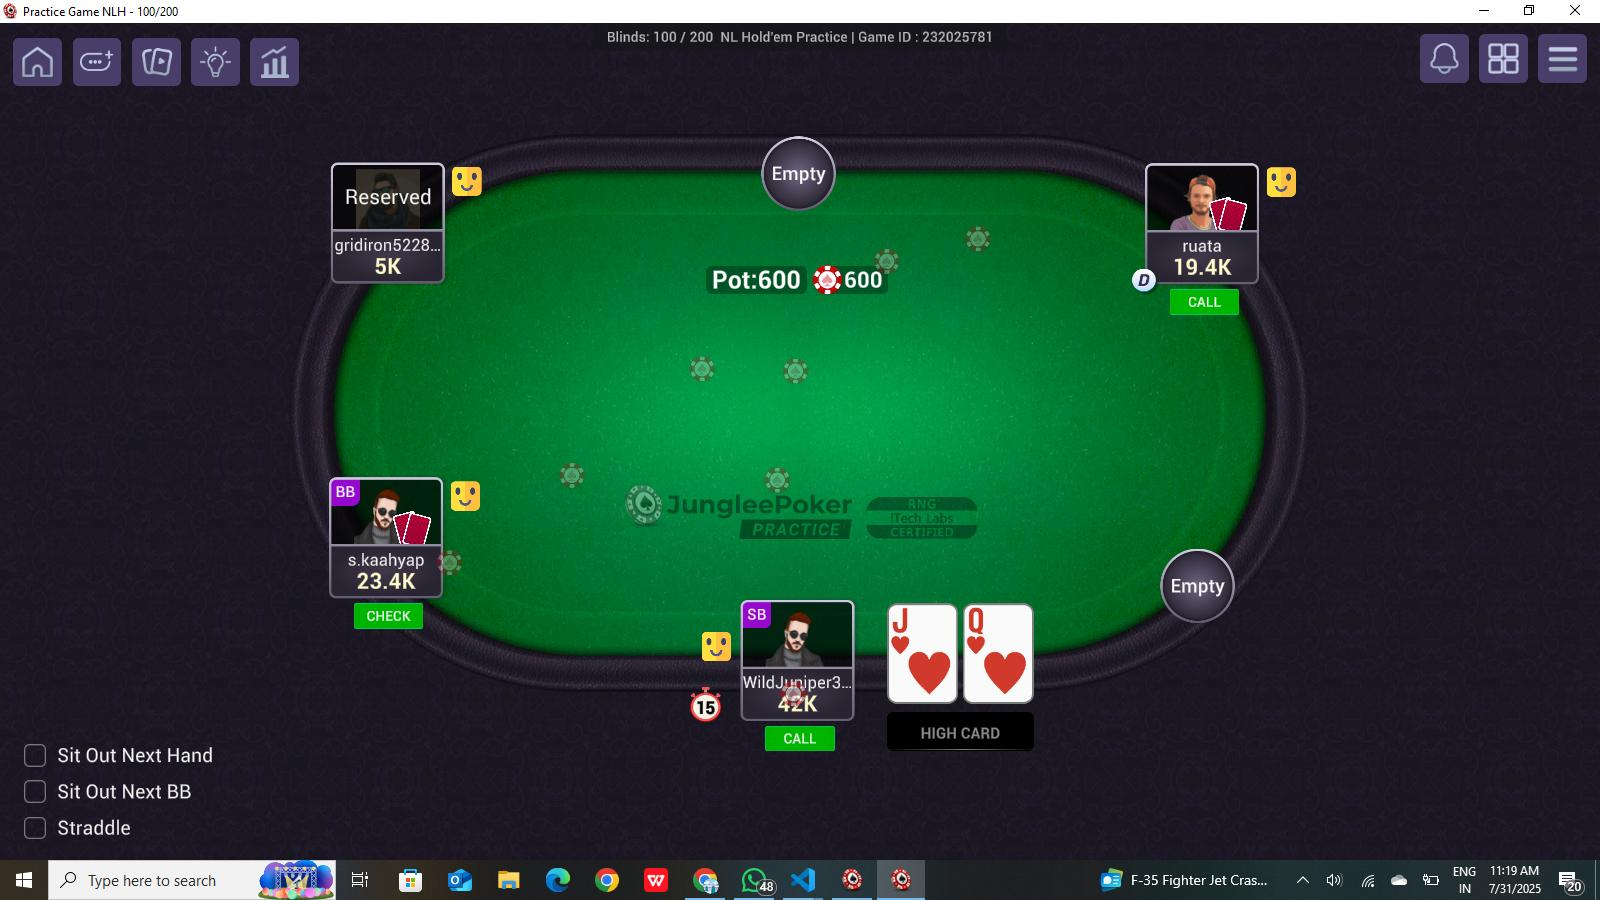card1_rank: (887, 605, 943, 640)
card1_suite_heart: (897, 643, 955, 700)
card2_rank: (964, 607, 998, 640)
card2_suite_heart: (970, 642, 1032, 703)
game_id: (854, 29, 995, 55)
my_stack: (746, 690, 843, 713)
position_BB: (332, 478, 360, 507)
position_SB: (745, 603, 771, 630)
total_pot: (709, 262, 891, 293)
villian1_name: (333, 543, 443, 568)
villian1_stack: (345, 571, 423, 597)
villian2_name: (329, 233, 446, 255)
villian2_stack: (358, 260, 415, 281)
villian4_name: (1148, 230, 1264, 258)
villian4_stack: (1165, 254, 1243, 278)
